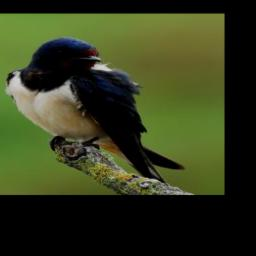Swallow: (4, 36, 187, 185)
